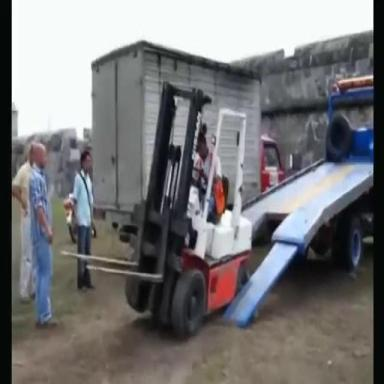forklift: (56, 77, 256, 337)
